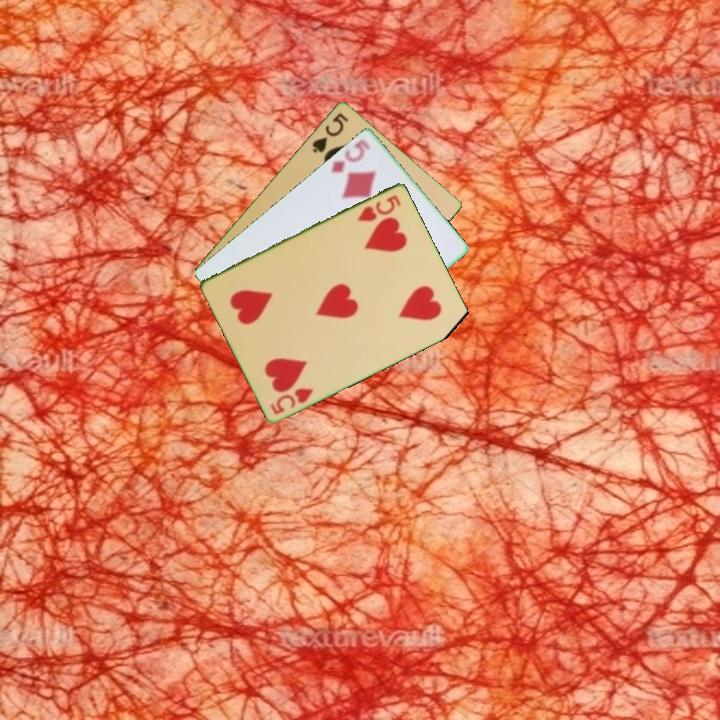5d: (327, 135, 374, 176)
5h: (354, 191, 404, 224), (267, 384, 316, 417)
5s: (308, 109, 351, 156)
